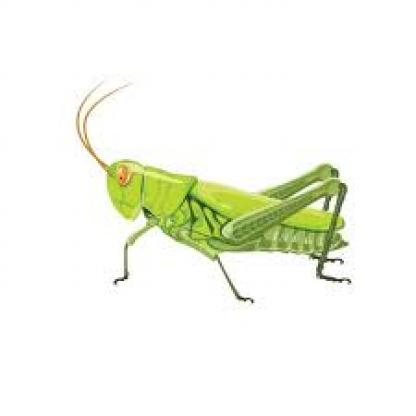grasshopper: (68, 82, 364, 299)
